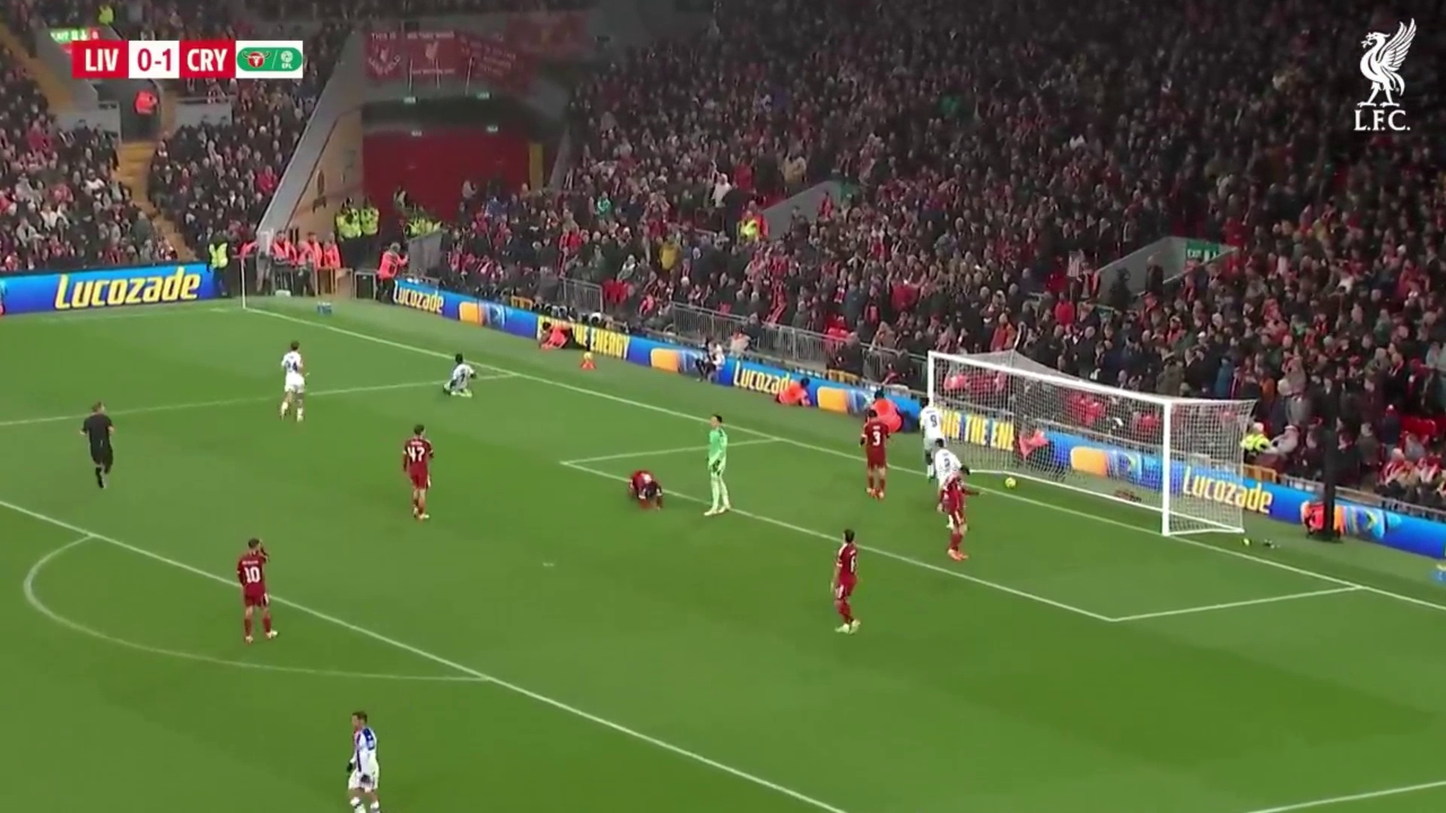player: (235, 536, 276, 644), (347, 710, 384, 813), (860, 397, 893, 501), (400, 425, 435, 522), (831, 528, 862, 633), (80, 401, 115, 491), (937, 466, 970, 561), (703, 410, 732, 518), (279, 343, 307, 424), (377, 243, 405, 305), (627, 467, 665, 511), (444, 353, 476, 398)
